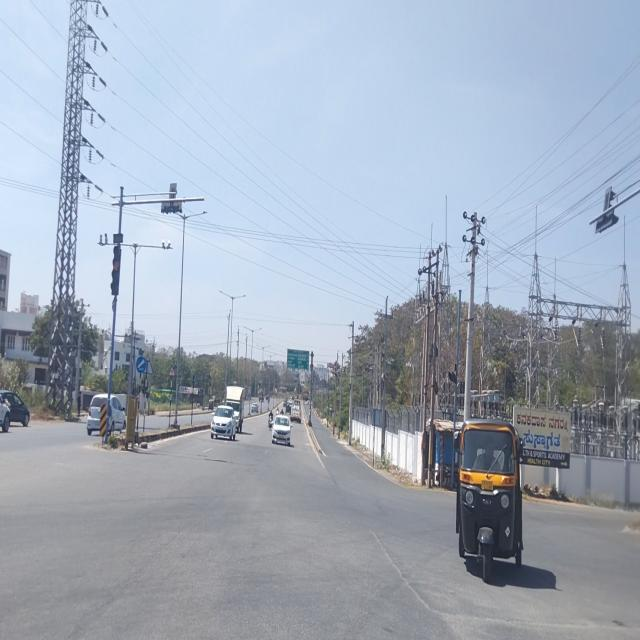bien_cam: (136, 354, 145, 374), (169, 366, 174, 377)
